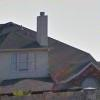Chimney: (33, 6, 53, 45)
